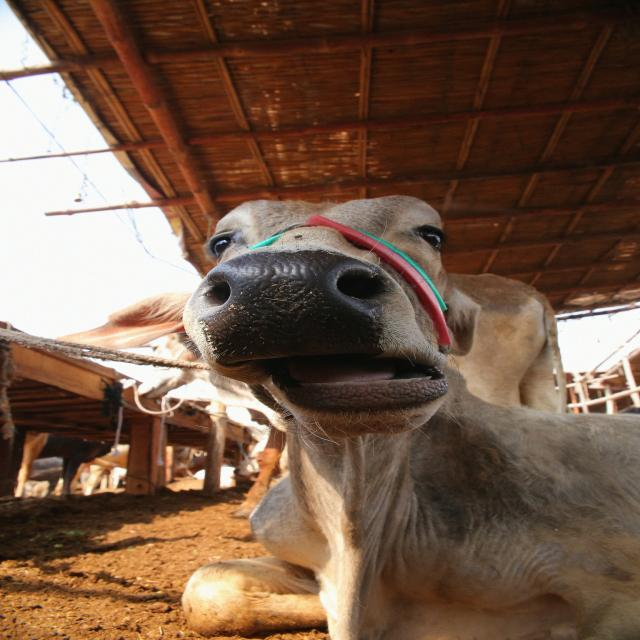muzzles: (198, 249, 390, 367)
